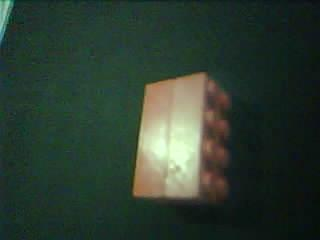lego: (130, 72, 232, 202)
